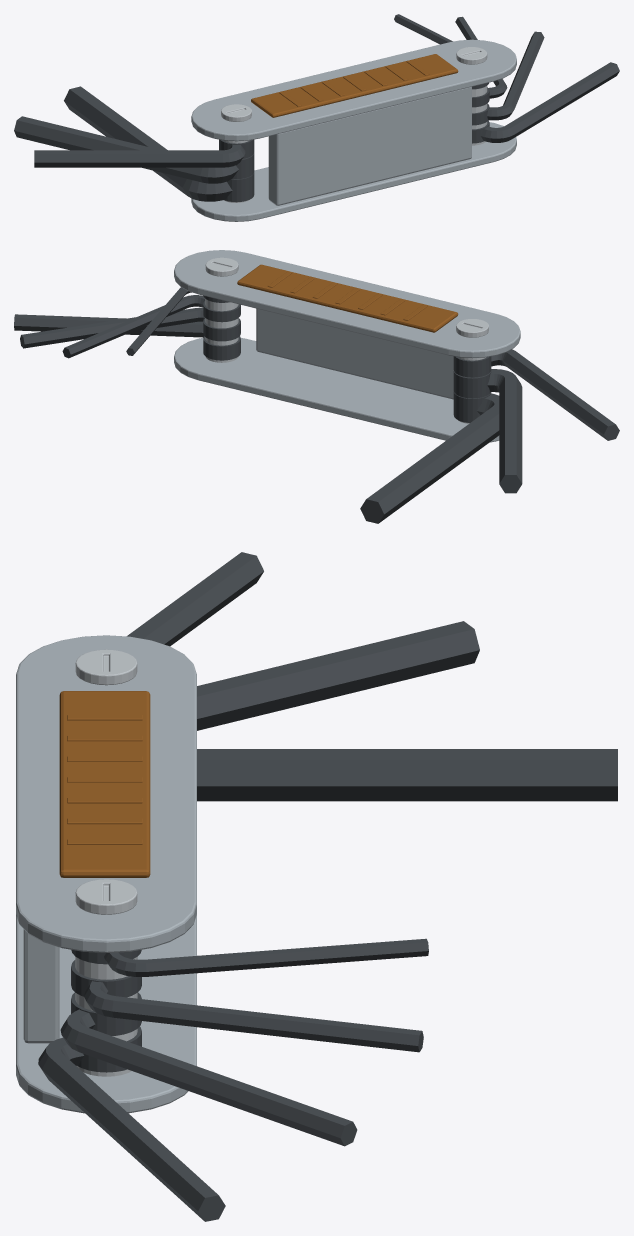
Rendered from folding_hex_key_LOD1.glb.
3 renders of one model, top to bottom at view 1: azimuth 30°, elevation 25°; view 2: azimuth 150°, elevation 25°; view 3: azimuth 270°, elevation 25°, orthographic. The views are drawn at different scales.
Parts seen in each view (by area): view 1: Case_backbone, Case_upper_cheek, Case_lower_cheek, Top_inset_ochre_grip, Key_L_4p0mm, Key_L_6p0mm, Key_L_5p0mm, Key_R_3p5mm, Key_R_3p0mm, Key_R_2p5mm, Key_R_2p0mm, Pivot_R_upper_cap (+1 smaller); view 2: Case_lower_cheek, Case_upper_cheek, Case_backbone, Key_L_6p0mm, Top_inset_ochre_grip, Key_L_5p0mm, Key_L_4p0mm, Key_R_3p5mm, Key_R_3p0mm, Key_R_2p5mm, Key_R_2p0mm, Pivot_R_upper_cap (+1 smaller); view 3: Case_upper_cheek, Key_L_6p0mm, Top_inset_ochre_grip, Key_L_5p0mm, Case_lower_cheek, Key_R_3p0mm, Key_R_2p5mm, Key_R_3p5mm, Key_R_2p0mm, Key_L_4p0mm, Case_backbone, Pivot_R_upper_cap (+1 smaller).
Boxes of the visible parts, left/top/right/bottom form: Case_backbone: left=268, top=87, right=471, bottom=205; Case_upper_cheek: left=191, top=39, right=516, bottom=141; Case_lower_cheek: left=191, top=122, right=516, bottom=221; Top_inset_ochre_grip: left=251, top=54, right=458, bottom=117; Key_L_4p0mm: left=34, top=139, right=254, bottom=167; Key_L_6p0mm: left=64, top=86, right=254, bottom=202; Key_L_5p0mm: left=14, top=116, right=254, bottom=183; Key_R_3p5mm: left=472, top=62, right=619, bottom=143; Key_R_3p0mm: left=472, top=31, right=544, bottom=125; Key_R_2p5mm: left=455, top=16, right=507, bottom=107; Key_R_2p0mm: left=394, top=14, right=488, bottom=89; Pivot_R_upper_cap: left=456, top=47, right=487, bottom=64; Case_lower_cheek: left=174, top=338, right=499, bottom=442; Case_upper_cheek: left=174, top=250, right=520, bottom=358; Case_backbone: left=256, top=308, right=453, bottom=399; Key_L_6p0mm: left=360, top=391, right=499, bottom=523; Top_inset_ochre_grip: left=237, top=264, right=458, bottom=332; Key_L_5p0mm: left=453, top=369, right=522, bottom=493; Key_L_4p0mm: left=453, top=349, right=619, bottom=440; Key_R_3p5mm: left=14, top=314, right=240, bottom=360; Key_R_3p0mm: left=20, top=307, right=240, bottom=348; Key_R_2p5mm: left=62, top=295, right=240, bottom=358; Key_R_2p0mm: left=126, top=287, right=229, bottom=355; Pivot_R_upper_cap: left=205, top=257, right=238, bottom=276; Case_upper_cheek: left=16, top=635, right=196, bottom=952; Key_L_6p0mm: left=197, top=749, right=617, bottom=801; Top_inset_ochre_grip: left=59, top=691, right=150, bottom=877; Key_L_5p0mm: left=197, top=621, right=479, bottom=730; Case_lower_cheek: left=16, top=914, right=196, bottom=1113; Key_R_3p0mm: left=60, top=992, right=357, bottom=1146; Key_R_2p5mm: left=71, top=960, right=423, bottom=1052; Key_R_3p5mm: left=38, top=1026, right=225, bottom=1221; Key_R_2p0mm: left=71, top=938, right=428, bottom=976; Key_L_4p0mm: left=127, top=552, right=263, bottom=646; Case_backbone: left=23, top=929, right=59, bottom=1043; Pivot_R_upper_cap: left=75, top=879, right=137, bottom=914.
Size of the model in its own units: 0.1765 by 0.0286 by 0.0798.
